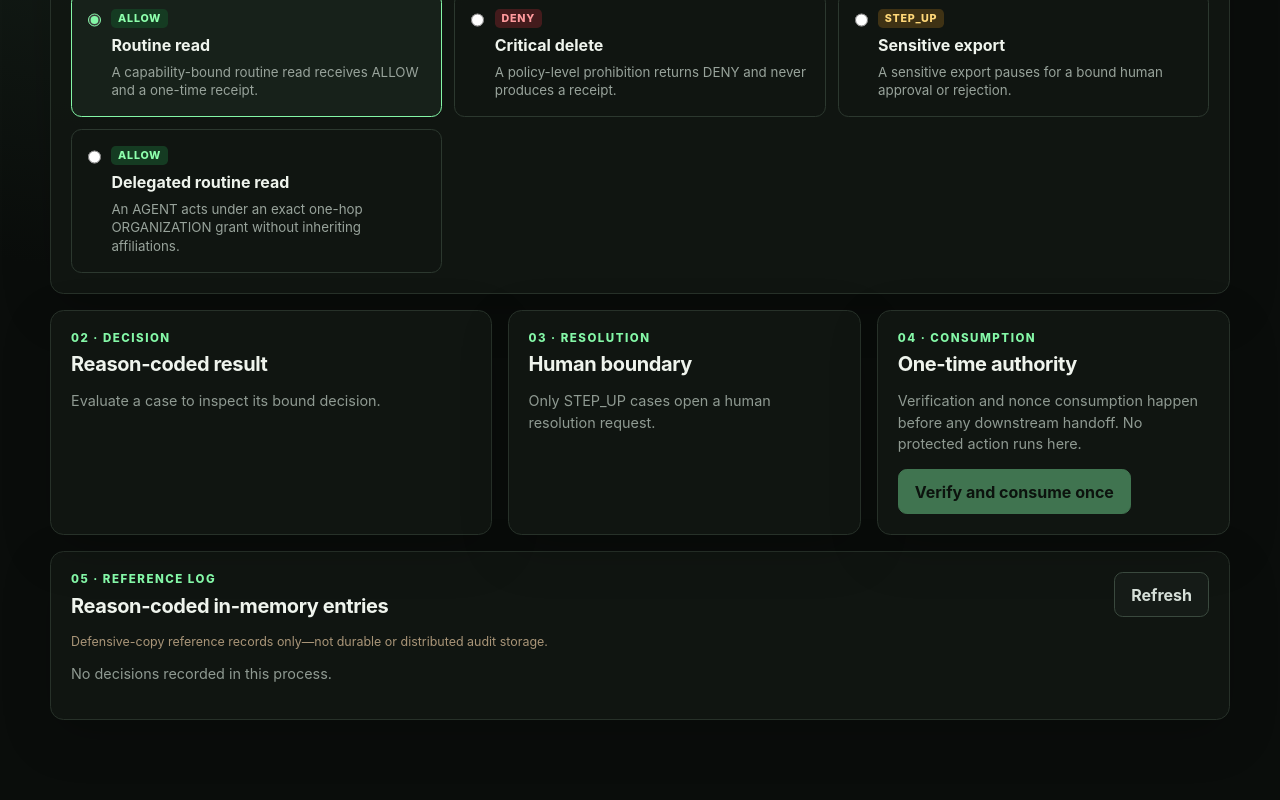
Test: manual decision-log refresh catches and renders transport failures
(page scrolled)
Click the button "Refresh" at [1162, 595], box [1114,572,1209,617]
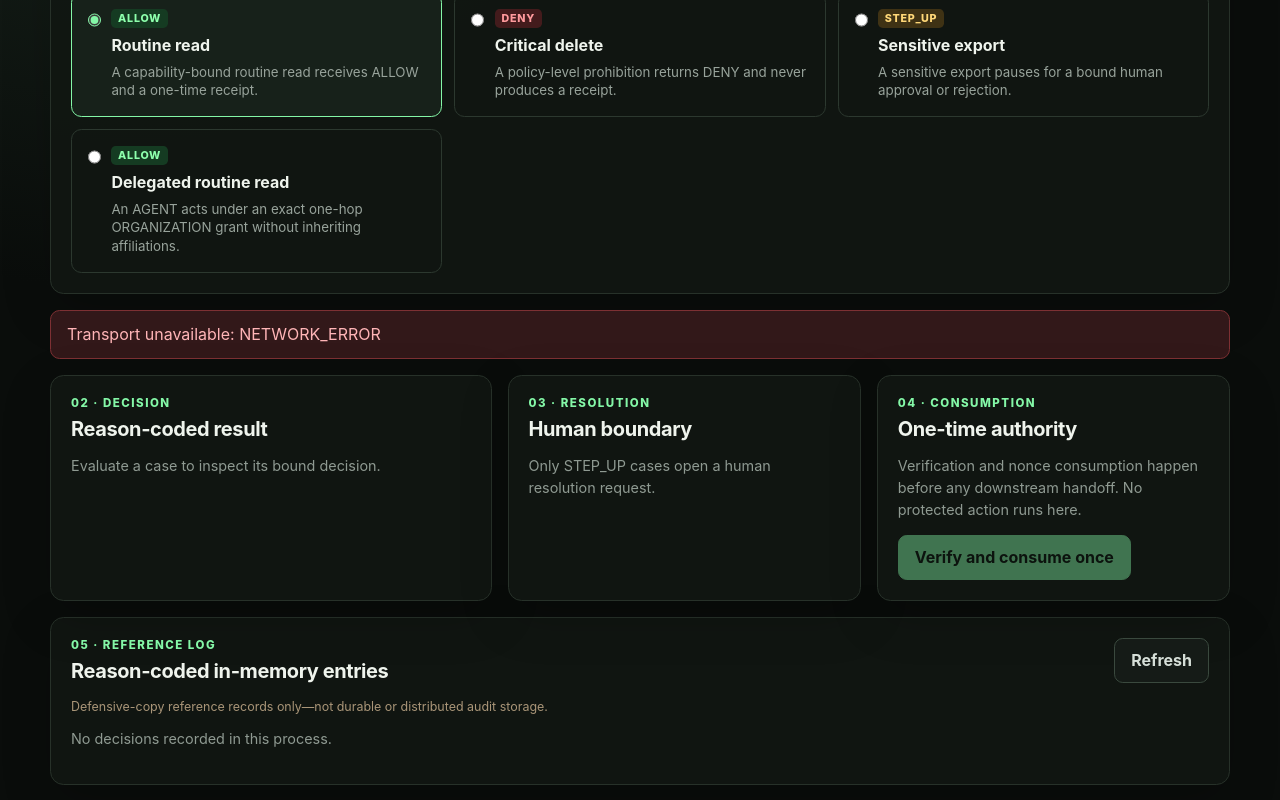
Check: the text "Transport unavailable: NETWORK_ERROR" is shown, box [50,310,1230,359]
